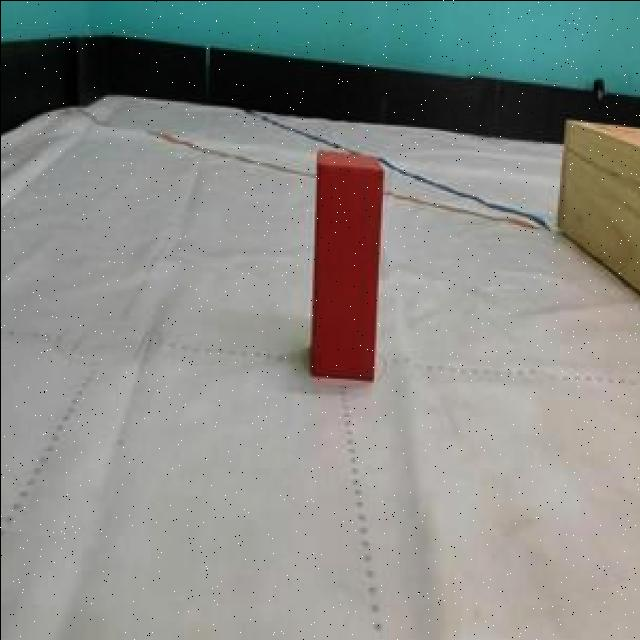redbox: (312, 147, 384, 384)
